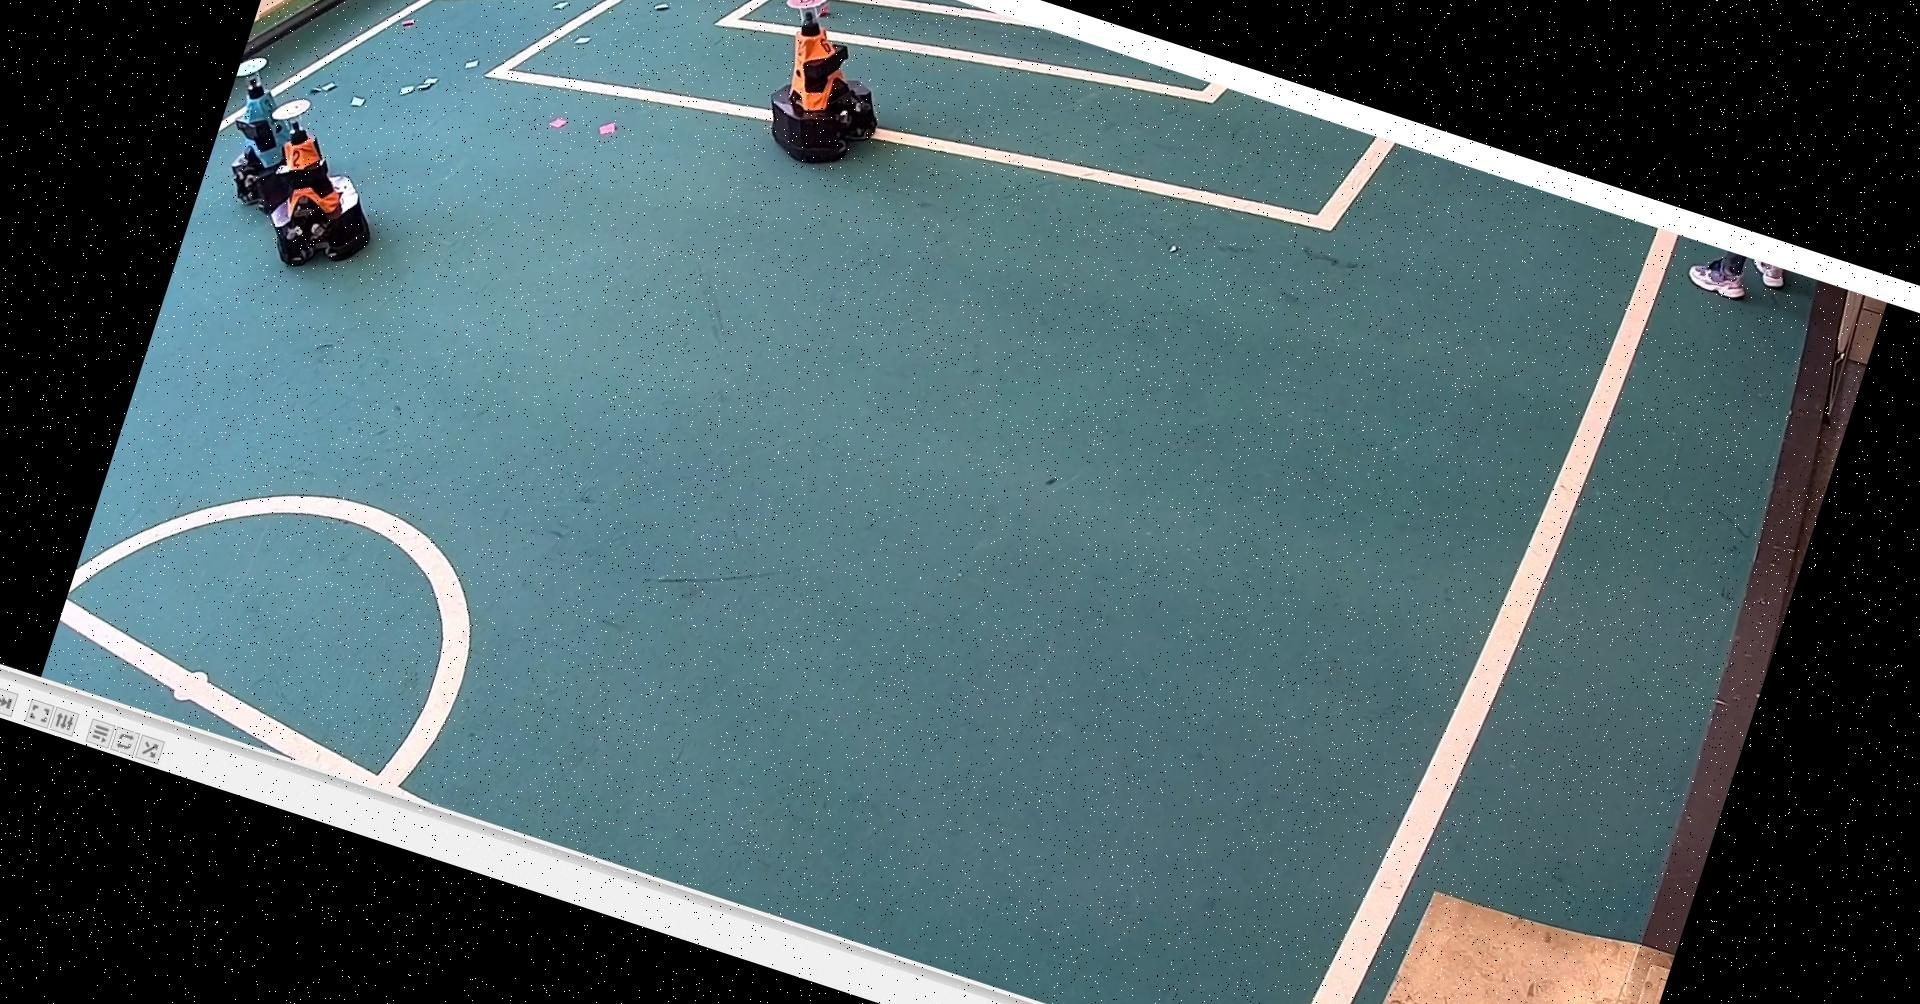Team_Blue: (207, 53, 342, 207)
Team_Red: (737, 0, 910, 184), (245, 102, 395, 279)
